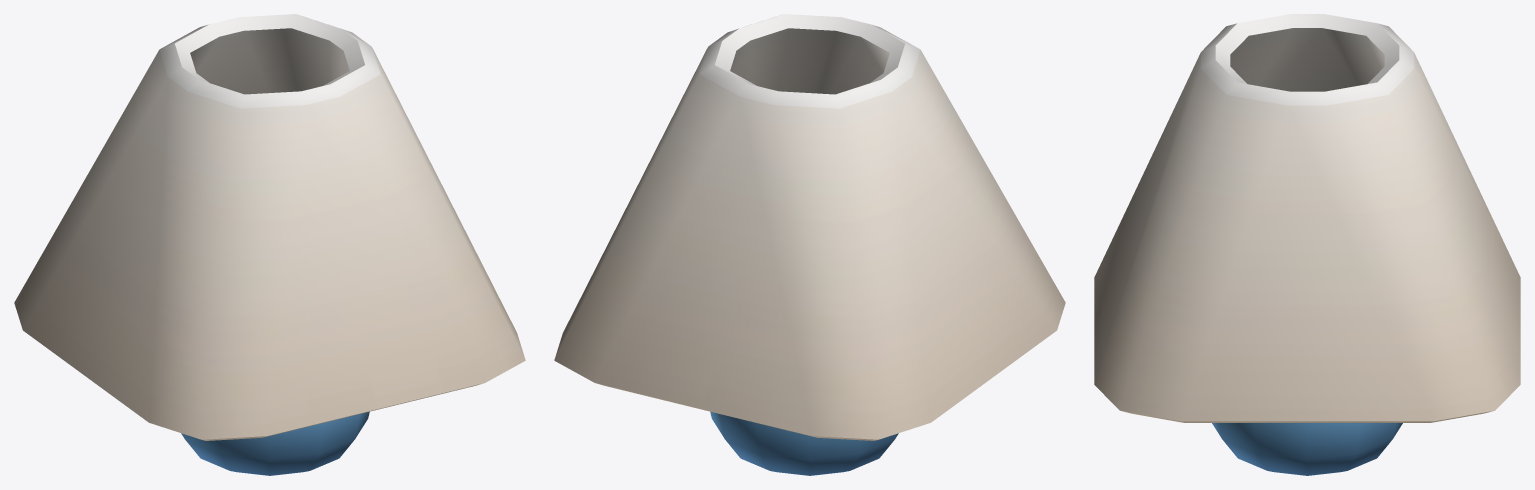
Rendered from table-lamp.glb.
3 renders of one model, left to right at view 1: azimuth 30°, elevation 25°; view 2: azimuth 150°, elevation 25°; view 3: azimuth 270°, elevation 25°, orthographic.
Visible parts, largest first — view 1: lamp_table; view 2: lamp_table; view 3: lamp_table.
Boxes of the visible parts, <box> form: lamp_table: <box>14,14,525,475</box>; lamp_table: <box>554,14,1065,475</box>; lamp_table: <box>1094,14,1520,475</box>.
Size of the model in its own units: 0.4404 by 0.45 by 0.4404.
1 material, 1 textured.
